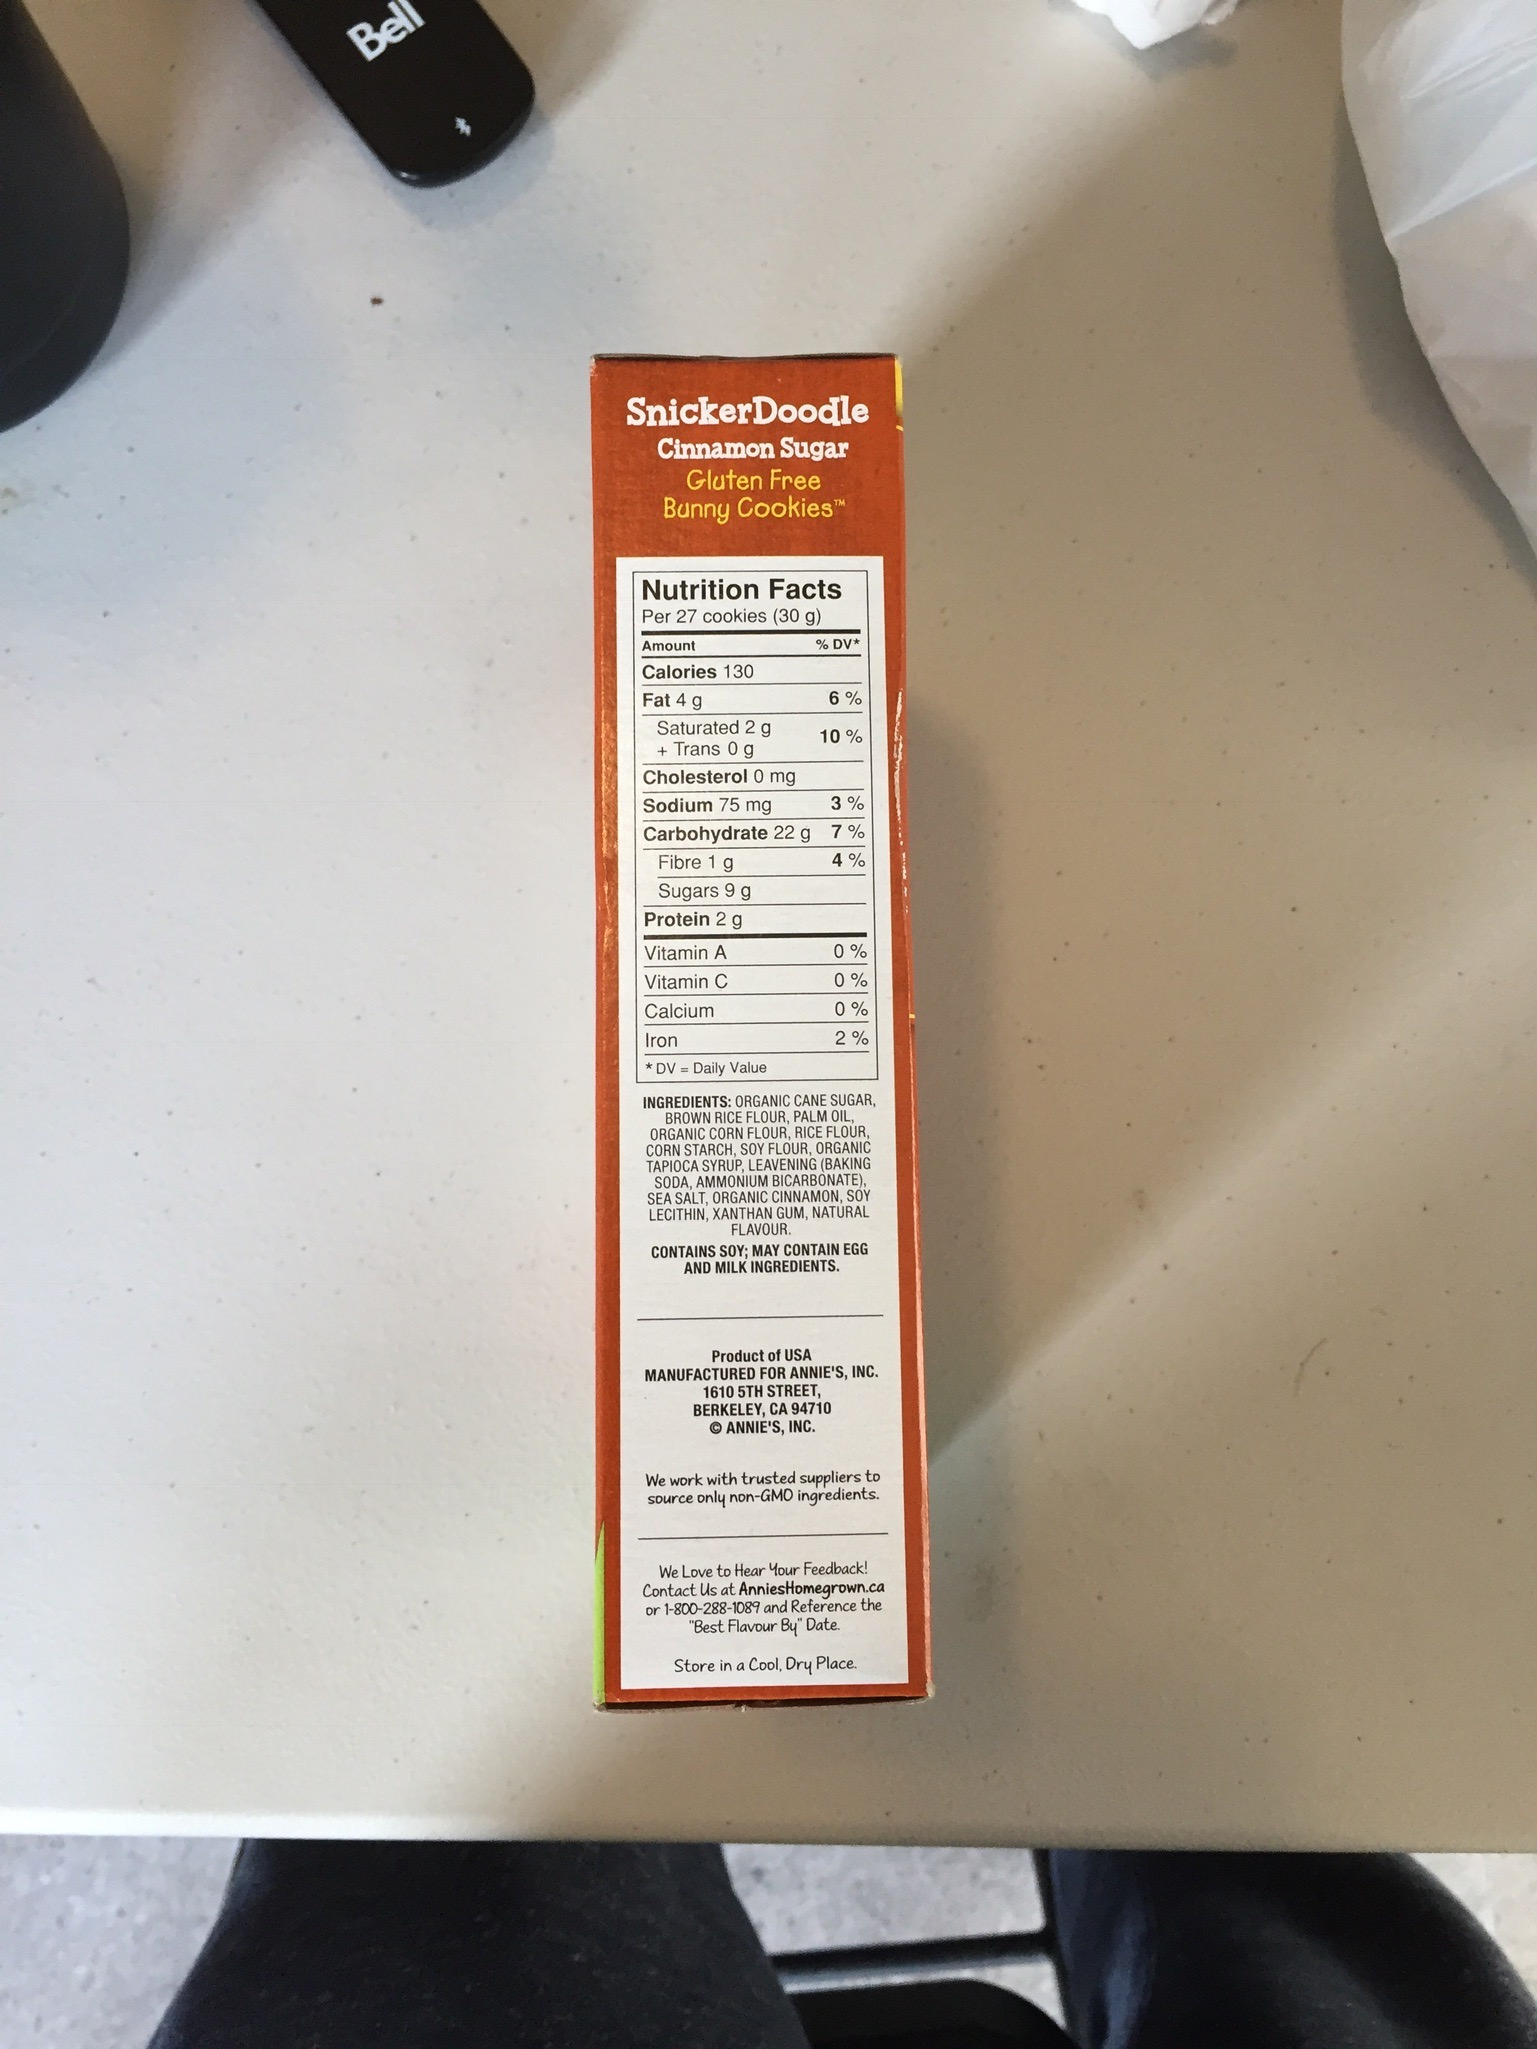annies_snickerdoodle_cinnamon_sugar: (593, 367, 919, 1708)
